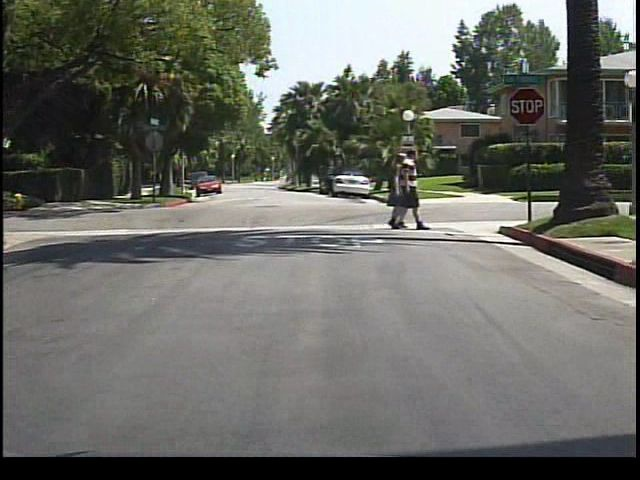person: (394, 149, 429, 230), (380, 151, 407, 234)
